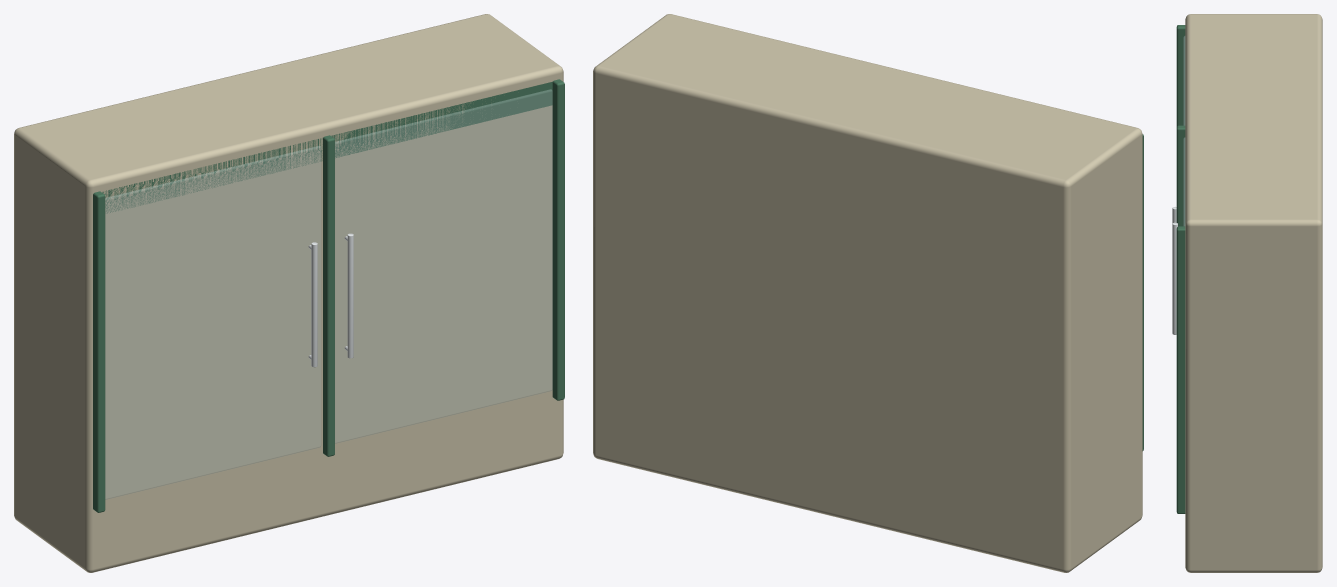
The model's file is grocery_refrigerator_case.glb.
3 views of the same model, side by side, from view 1: azimuth 30°, elevation 25°; view 2: azimuth 150°, elevation 25°; view 3: azimuth 270°, elevation 25° (orthographic). The views are drawn at different scales.
Visible parts, largest first — view 1: grocery_refrigerator_case_ag_aged_cream_enamel_pbr, grocery_refrigerator_case_ag_refrigerator_glass, grocery_refrigerator_case_ag_weathered_green_enamel_pbr, grocery_refrigerator_case_ss_polished_chrome; view 2: grocery_refrigerator_case_ag_aged_cream_enamel_pbr; view 3: grocery_refrigerator_case_ag_aged_cream_enamel_pbr, grocery_refrigerator_case_ag_weathered_green_enamel_pbr, grocery_refrigerator_case_ss_polished_chrome, grocery_refrigerator_case_ag_refrigerator_glass.
Part boxes in pixels (box(x1,y1,x2,y2)): grocery_refrigerator_case_ag_aged_cream_enamel_pbr: box(14, 14, 563, 572); grocery_refrigerator_case_ag_refrigerator_glass: box(105, 89, 552, 499); grocery_refrigerator_case_ag_weathered_green_enamel_pbr: box(93, 79, 564, 512); grocery_refrigerator_case_ss_polished_chrome: box(308, 233, 353, 367); grocery_refrigerator_case_ag_aged_cream_enamel_pbr: box(593, 14, 1142, 572); grocery_refrigerator_case_ag_aged_cream_enamel_pbr: box(1185, 14, 1322, 572); grocery_refrigerator_case_ag_weathered_green_enamel_pbr: box(1176, 25, 1185, 513); grocery_refrigerator_case_ss_polished_chrome: box(1172, 207, 1177, 334); grocery_refrigerator_case_ag_refrigerator_glass: box(1183, 36, 1185, 226).
Size of the model in its own units: 3.18 by 2.5 by 0.963.
